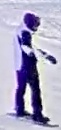snowboarder: (7, 13, 60, 128)
